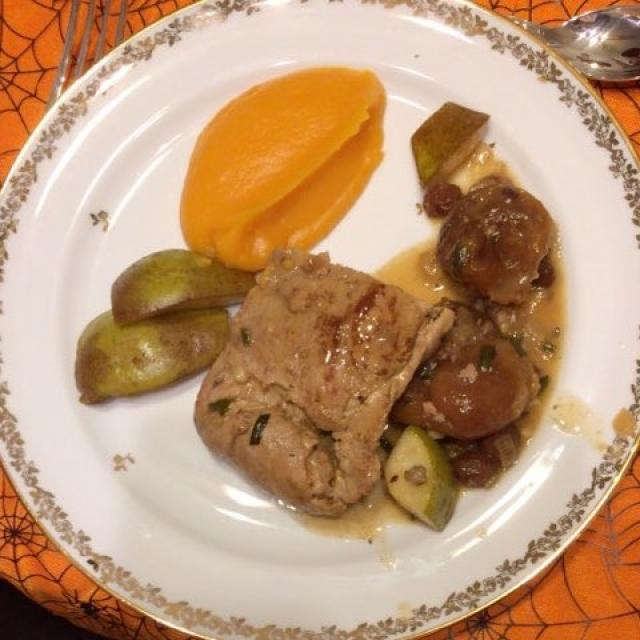apricot-dried: (407, 196, 559, 440)
dried-raisins: (386, 183, 498, 468)
pumpkin: (180, 62, 383, 275)
sauce-savoury: (380, 154, 551, 466)
zucchini: (378, 100, 494, 525)
